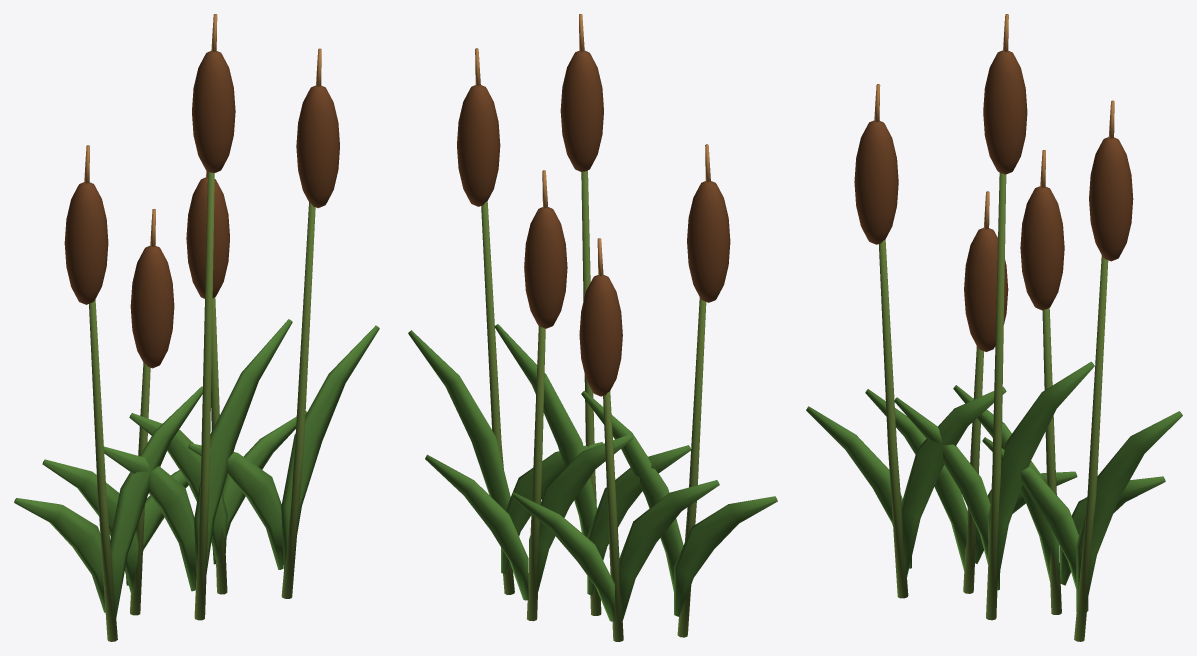
Rendered from lvl02_environment_totoras_cluster_lite_v01.glb.
The picture shows the model from 3 angles, left to right: view 1: azimuth 30°, elevation 25°; view 2: azimuth 150°, elevation 25°; view 3: azimuth 330°, elevation 25°; orthographic projection.
Visible parts, largest first — view 1: leaf_a_2, seed_head_0, seed_head_4, seed_head_2, seed_head_1, leaf_a_0, stem_2, leaf_a_4, stem_4, seed_head_3, leaf_b_2, stem_0 (+8 smaller); view 2: seed_head_0, seed_head_3, seed_head_2, seed_head_1, seed_head_4, leaf_a_4, leaf_a_1, leaf_b_0, leaf_a_2, leaf_b_3, leaf_a_3, leaf_b_1 (+8 smaller); view 3: leaf_a_2, seed_head_3, seed_head_2, seed_head_0, seed_head_4, leaf_a_0, stem_2, leaf_a_4, seed_head_1, stem_4, stem_0, leaf_b_2 (+8 smaller).
Part boxes in pixels (<box>): leaf_a_2: <box>194,319,292,581</box>; seed_head_0: <box>64,182,108,304</box>; seed_head_4: <box>296,85,339,208</box>; seed_head_2: <box>192,51,235,172</box>; seed_head_1: <box>130,246,174,368</box>; leaf_a_0: <box>110,386,202,617</box>; stem_2: <box>194,171,214,620</box>; leaf_a_4: <box>281,325,379,575</box>; stem_4: <box>281,202,315,598</box>; seed_head_3: <box>186,177,229,298</box>; leaf_b_2: <box>104,446,196,591</box>; stem_0: <box>89,299,117,641</box>; seed_head_0: <box>687,181,730,302</box>; seed_head_3: <box>524,207,567,328</box>; seed_head_2: <box>560,50,603,171</box>; seed_head_1: <box>579,275,622,396</box>; seed_head_4: <box>457,85,500,206</box>; leaf_a_4: <box>408,330,512,571</box>; leaf_a_1: <box>619,480,719,621</box>; leaf_b_0: <box>674,496,777,616</box>; leaf_a_2: <box>494,324,597,537</box>; leaf_b_3: <box>425,454,528,600</box>; leaf_a_3: <box>529,434,633,592</box>; leaf_b_1: <box>511,492,615,621</box>; leaf_a_2: <box>988,361,1094,586</box>; seed_head_3: <box>1020,186,1064,310</box>; seed_head_2: <box>983,50,1027,174</box>; seed_head_0: <box>854,120,898,244</box>; seed_head_4: <box>1089,137,1133,261</box>; leaf_a_0: <box>901,386,1006,578</box>; stem_2: <box>986,172,1006,620</box>; leaf_a_4: <box>1076,411,1182,611</box>; seed_head_1: <box>964,228,1008,351</box>; stem_4: <box>1074,255,1108,641</box>; stem_0: <box>879,239,908,598</box>; leaf_b_2: <box>894,397,1000,590</box>.
Bounding box in the file's own units: 2.12 × 3.29 × 0.4299.
